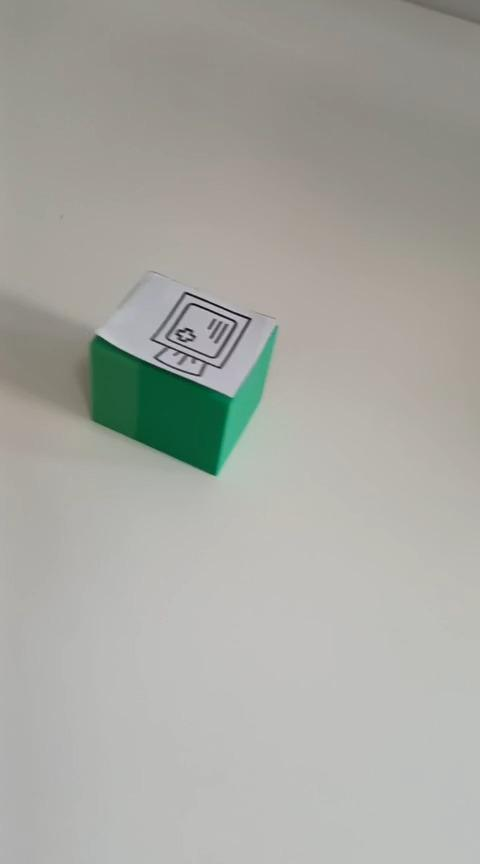Gauze: (88, 268, 279, 477)
